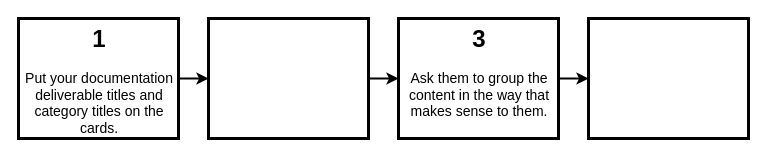
Some shapes in this 767 by 159 pixel diagram are drawn without their labels. Here are the shapes that lost their labels. From the top down, the centre of each, then its label:
(x=288, y=78): 2 Gather together 3-4 users and give them the cards.
(x=668, y=78): 4 Analyse the results and compare them to your own implementation.
